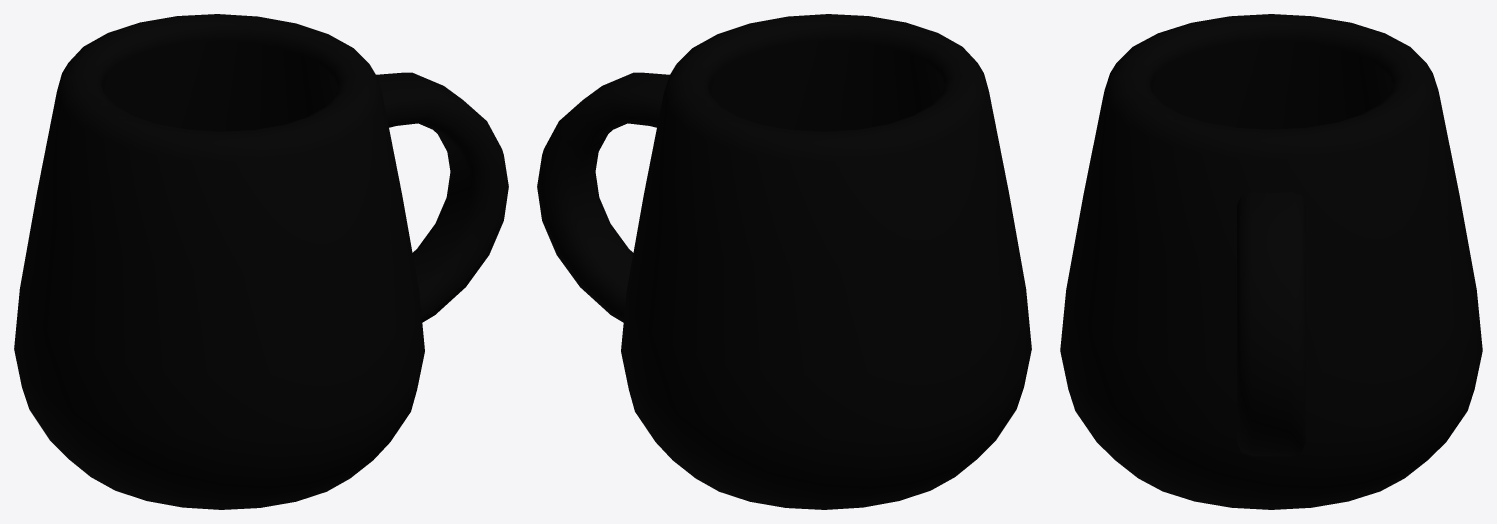
File: Mug3_Black.fbx
The picture shows the model from 3 angles, left to right: view 1: azimuth 30°, elevation 25°; view 2: azimuth 150°, elevation 25°; view 3: azimuth 270°, elevation 25°; orthographic projection.
Visible parts, largest first — view 1: Mug3_Black; view 2: Mug3_Black; view 3: Mug3_Black.
Part boxes in pixels (<box>): Mug3_Black: <box>14,14,508,509</box>; Mug3_Black: <box>537,14,1031,509</box>; Mug3_Black: <box>1060,14,1482,509</box>.
Bounding box in the file's own units: 16.75 × 13.4 × 13.4.
